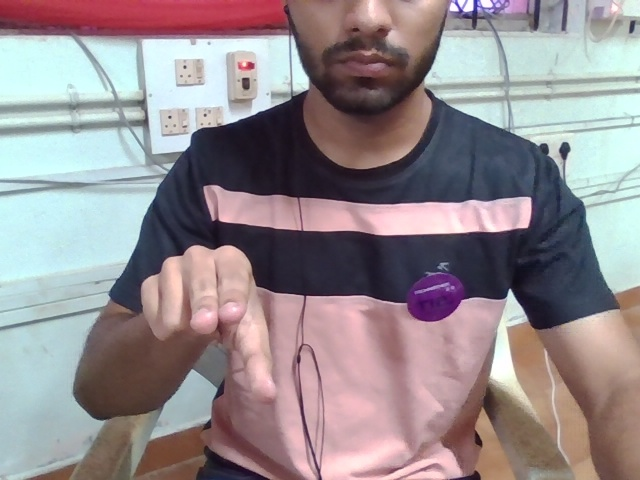no: (124, 225, 298, 421)
